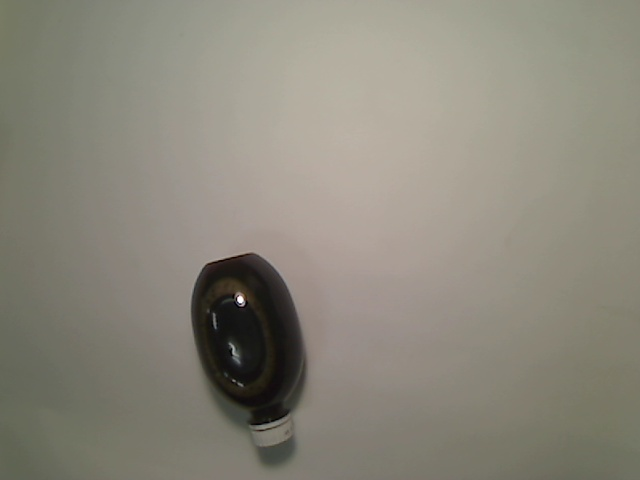plast_bottle: (188, 251, 308, 451)
